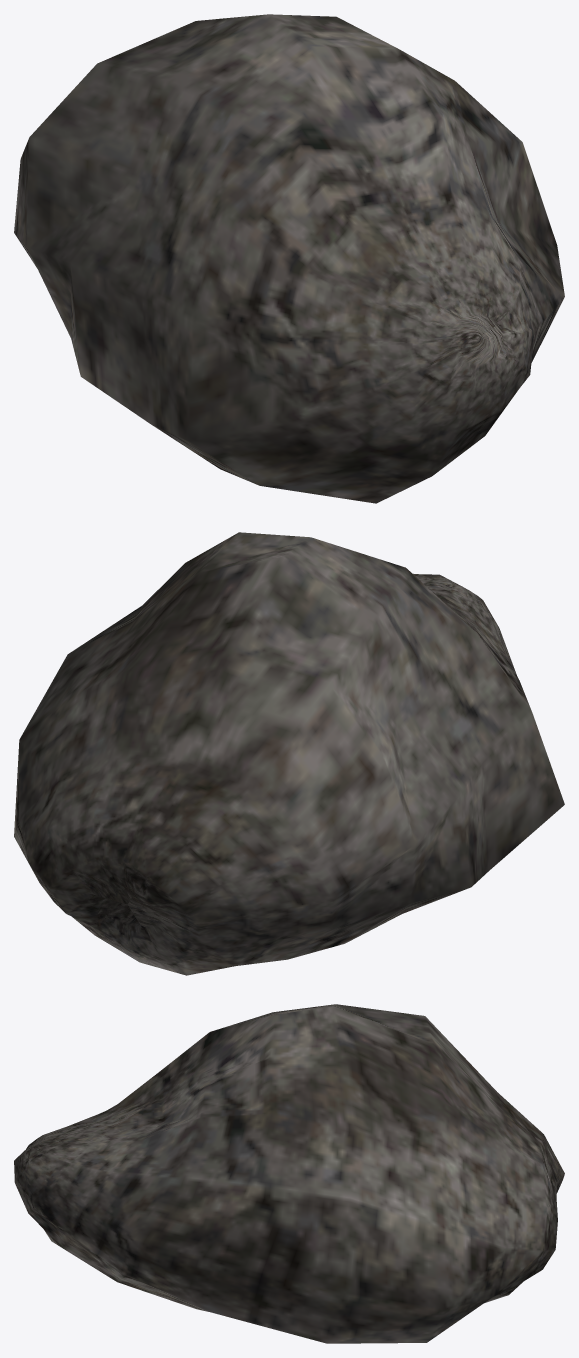
Rendered from rock_debris01.dae.
3 renders of one model, top to bottom at view 1: azimuth 30°, elevation 25°; view 2: azimuth 150°, elevation 25°; view 3: azimuth 270°, elevation 25°, orthographic. The views are drawn at different scales.
Visible parts, largest first — view 1: Group2; view 2: Group2; view 3: Group2.
Part boxes in pixels (box(x1,y1,x2,y2)): Group2: box(14, 14, 564, 503); Group2: box(14, 532, 564, 975); Group2: box(14, 1004, 564, 1343).
Size of the model in its own units: 0.2239 by 0.1857 by 0.3191.
